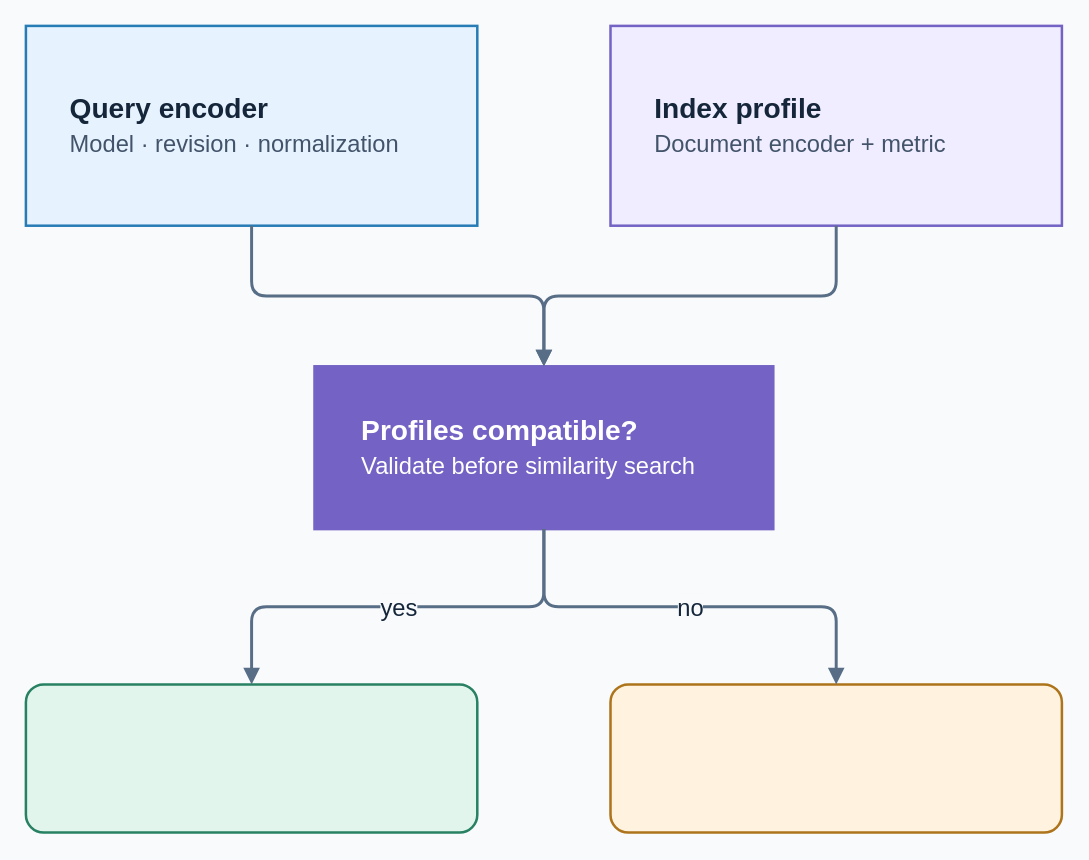
The diagram is 1089 pixels wide and 860 high, and some of its shapes have lost their labels. Each missing label, with the box of its shape:
Reject or reroute Use the matching index: (609, 683, 1062, 833)
Search Compare compatible vectors: (24, 683, 478, 833)
